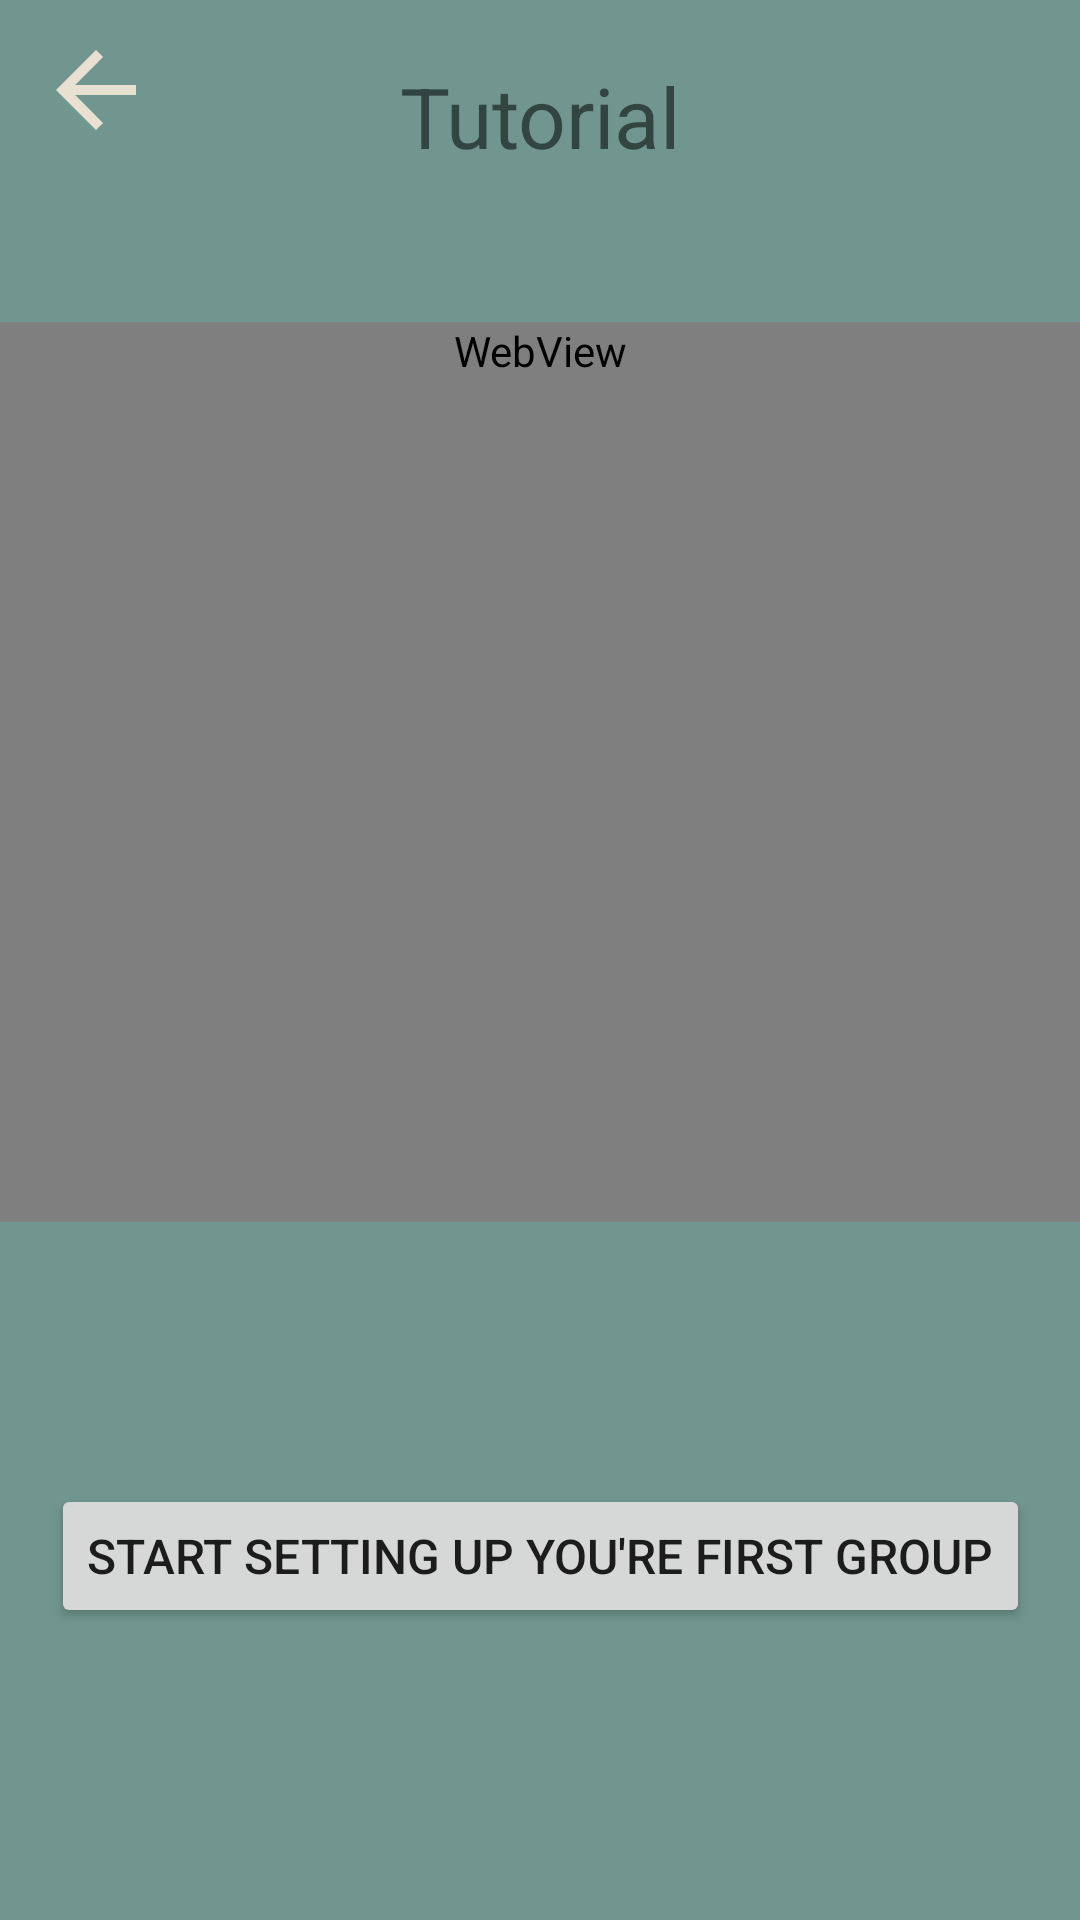

Screen size 1080w x 1920h. Icon name, then its box in pixels as (x1, y1, x2, y2):
arrow back: (56, 50, 136, 130)
